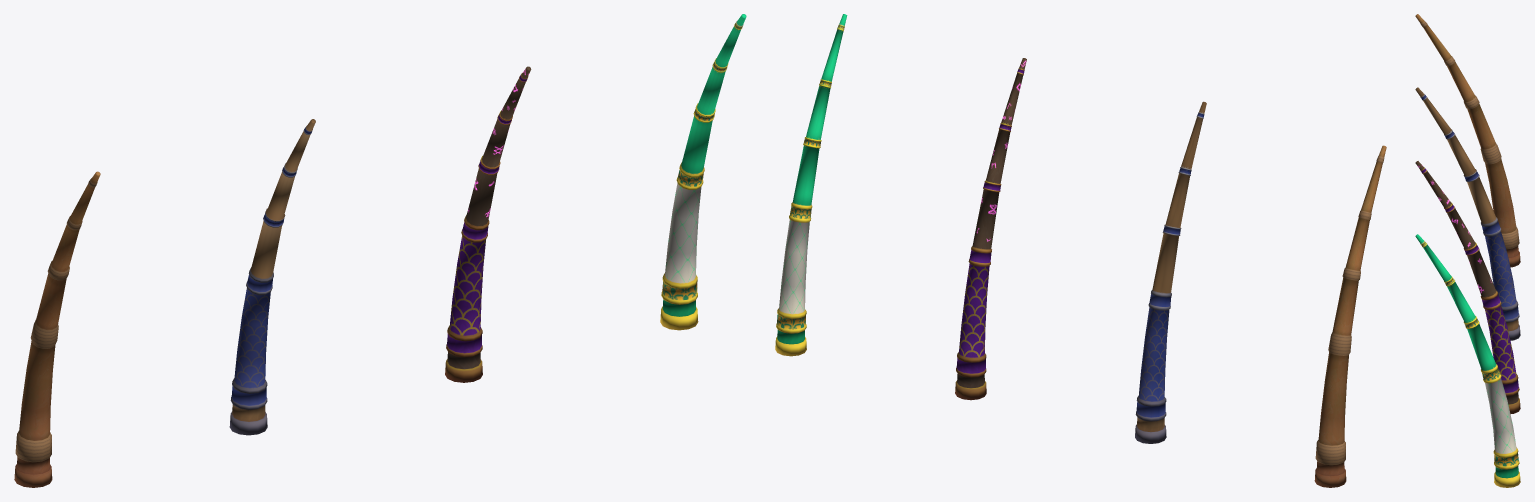
The model's file is fishing_rob.fbx.
3 views of the same model, side by side, from view 1: azimuth 30°, elevation 25°; view 2: azimuth 150°, elevation 25°; view 3: azimuth 270°, elevation 25° (orthographic). The views are drawn at different scales.
Parts seen in each view (by area): view 1: Common_Rob, Legend_Rob, Rare_Rob, Epic_Rob; view 2: Common_Rob, Legend_Rob, Rare_Rob, Epic_Rob; view 3: Legend_Rob, Common_Rob, Epic_Rob, Rare_Rob.
Part boxes in pixels (x1,y1,x2,y2): Common_Rob: (14, 171, 100, 487); Legend_Rob: (660, 14, 746, 330); Rare_Rob: (229, 119, 315, 435); Epic_Rob: (445, 66, 531, 382); Common_Rob: (1314, 145, 1386, 487); Legend_Rob: (775, 14, 847, 356); Rare_Rob: (1135, 101, 1206, 443); Epic_Rob: (955, 58, 1026, 400); Legend_Rob: (1415, 234, 1520, 487); Common_Rob: (1415, 14, 1520, 267); Epic_Rob: (1415, 161, 1520, 413); Rare_Rob: (1415, 87, 1520, 340).
Size of the model in its own units: 315 by 158 by 60.56.
1 material, 1 textured.
